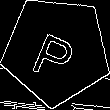P_NE: (30, 21, 83, 81)
